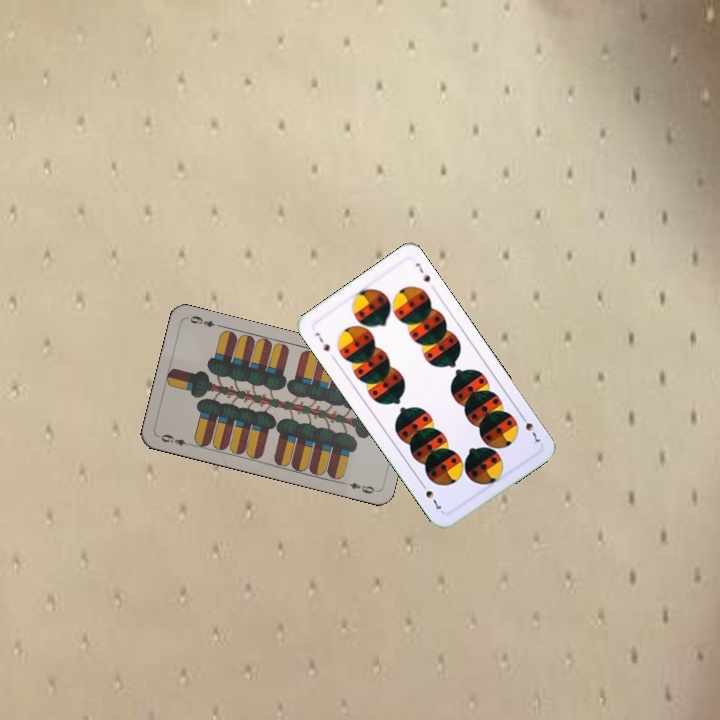E9: (155, 430, 195, 448)
S7: (516, 410, 543, 447), (311, 328, 332, 354)
